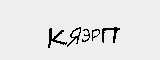К: (45, 28, 67, 49)
П: (100, 26, 120, 45)
Р: (89, 29, 101, 44)
Э: (80, 26, 90, 45)
Я: (63, 26, 81, 47)
